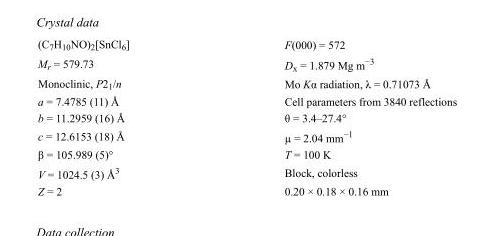table: (37, 37, 456, 196)
table column: (206, 37, 456, 196), (37, 37, 206, 196)
table row: (37, 53, 456, 74), (37, 162, 456, 182), (37, 126, 456, 145), (37, 74, 456, 92), (37, 92, 456, 109), (37, 109, 456, 126), (37, 145, 456, 162), (37, 37, 456, 53), (37, 182, 456, 196)
